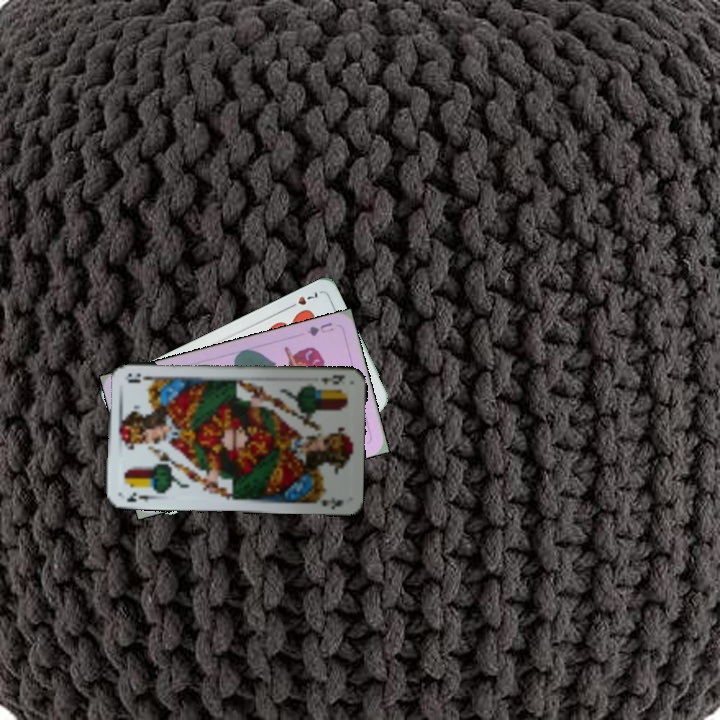EK: (123, 488, 158, 505), (317, 371, 348, 387)
GU: (303, 318, 336, 339)
H7: (284, 287, 320, 311)
